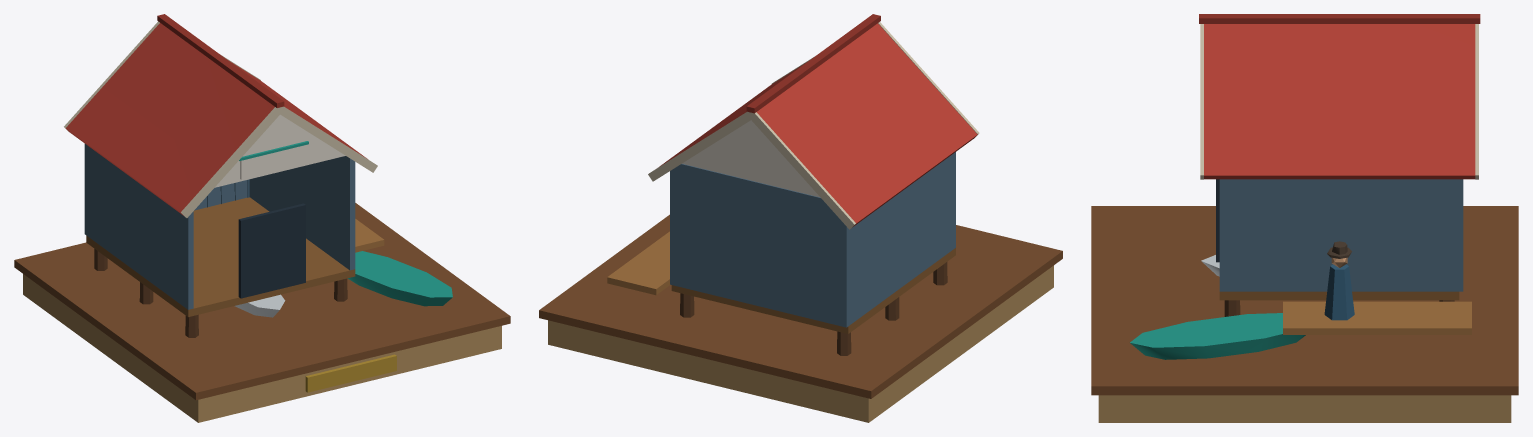
Rendered from boathouse_souvenir.glb.
3 renders of one model, left to right at view 1: azimuth 30°, elevation 25°; view 2: azimuth 150°, elevation 25°; view 3: azimuth 270°, elevation 25°, orthographic. The views are drawn at different scales.
Parts seen in each view (by area): view 1: decor-boathouse_souvenir; view 2: decor-boathouse_souvenir; view 3: decor-boathouse_souvenir.
Part boxes in pixels (x1=…): decor-boathouse_souvenir: x1=14, y1=14, x2=510, y2=422; decor-boathouse_souvenir: x1=539, y1=14, x2=1062, y2=422; decor-boathouse_souvenir: x1=1091, y1=14, x2=1518, y2=422.
Bounding box in the file's own units: 1.76 × 1.38 × 1.76.
